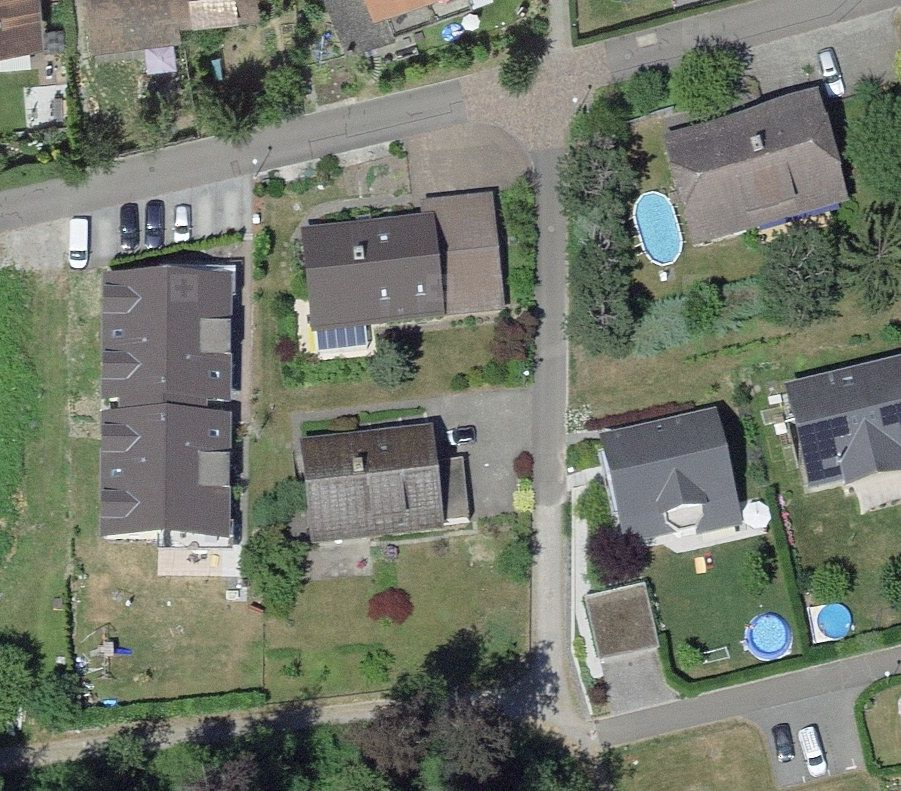solar: (792, 408, 852, 489)
